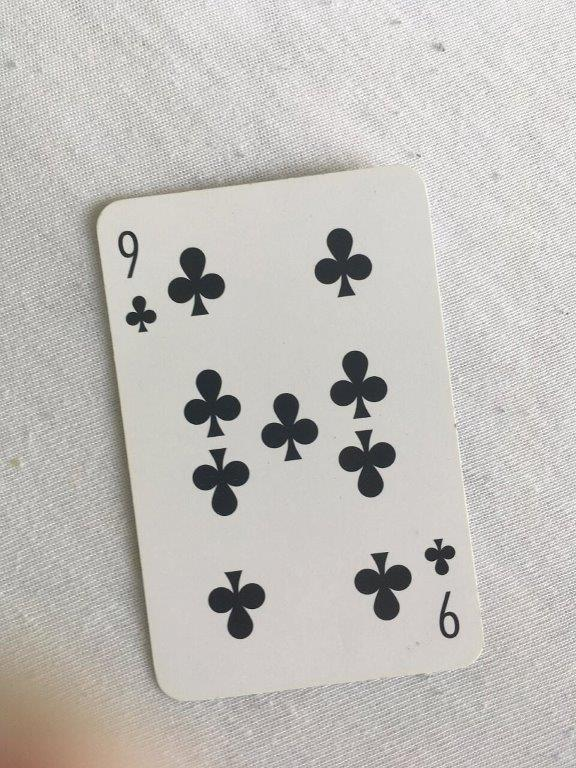9C: (92, 162, 490, 706)
